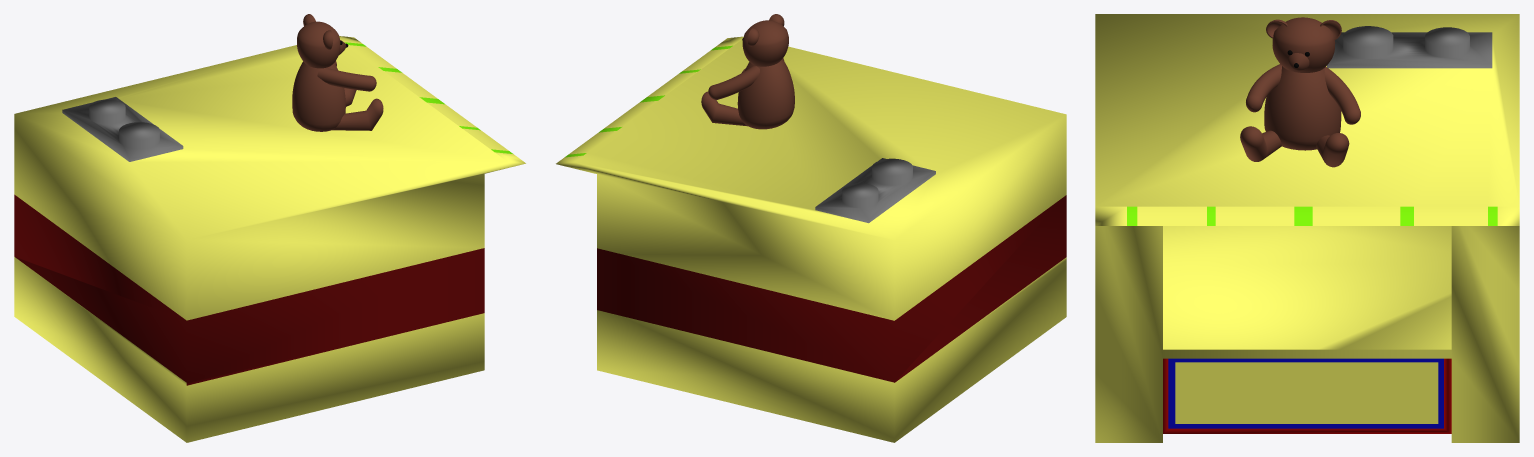
The model's file is shop.fbx.
3 views of the same model, side by side, from view 1: azimuth 30°, elevation 25°; view 2: azimuth 150°, elevation 25°; view 3: azimuth 270°, elevation 25° (orthographic). The views are drawn at different scales.
Visible parts, largest first — view 1: Model, Group1, Group4, Group2; view 2: Model, Group1, Group7, Group9; view 3: Model, Group1, Group2, Group7, Group4, Group9.
Part boxes in pixels (x1,y1,x2,y2): Model: [14, 36, 525, 442]; Group1: [292, 21, 345, 131]; Group4: [317, 68, 376, 91]; Group2: [332, 98, 383, 130]; Model: [556, 36, 1066, 442]; Group1: [737, 20, 794, 129]; Group7: [708, 66, 759, 99]; Group9: [701, 91, 747, 126]; Model: [1095, 14, 1519, 442]; Group1: [1264, 17, 1341, 150]; Group2: [1240, 126, 1281, 161]; Group7: [1324, 67, 1360, 124]; Group4: [1246, 64, 1281, 112]; Group9: [1316, 133, 1349, 167].
Bounding box in the file's own units: 1.14 × 0.9759 × 1.
